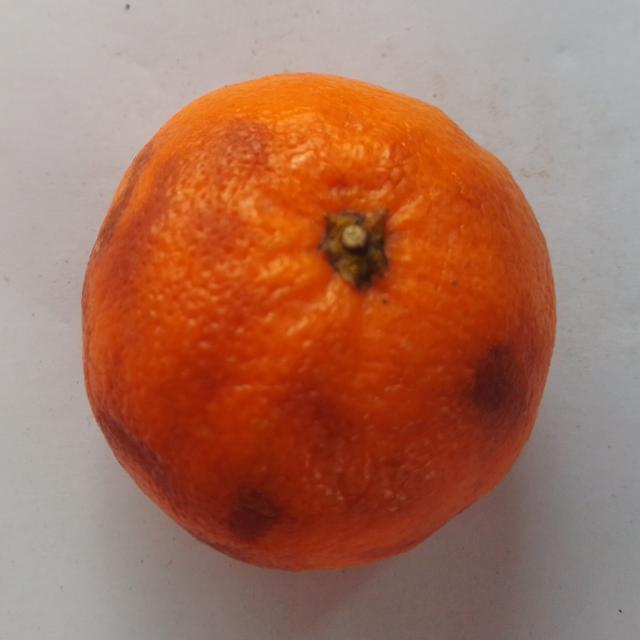orange: (83, 74, 555, 570)
